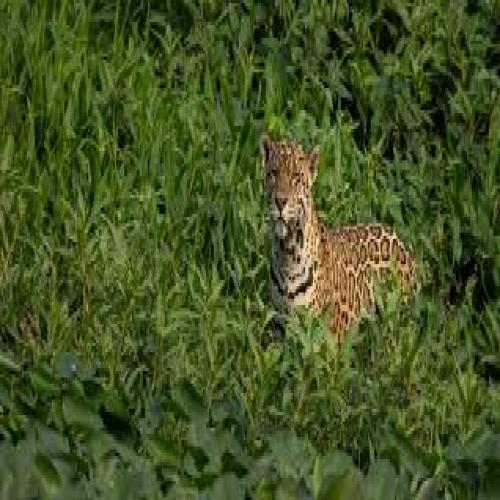jaguar_not-endangered: (259, 129, 415, 330)
